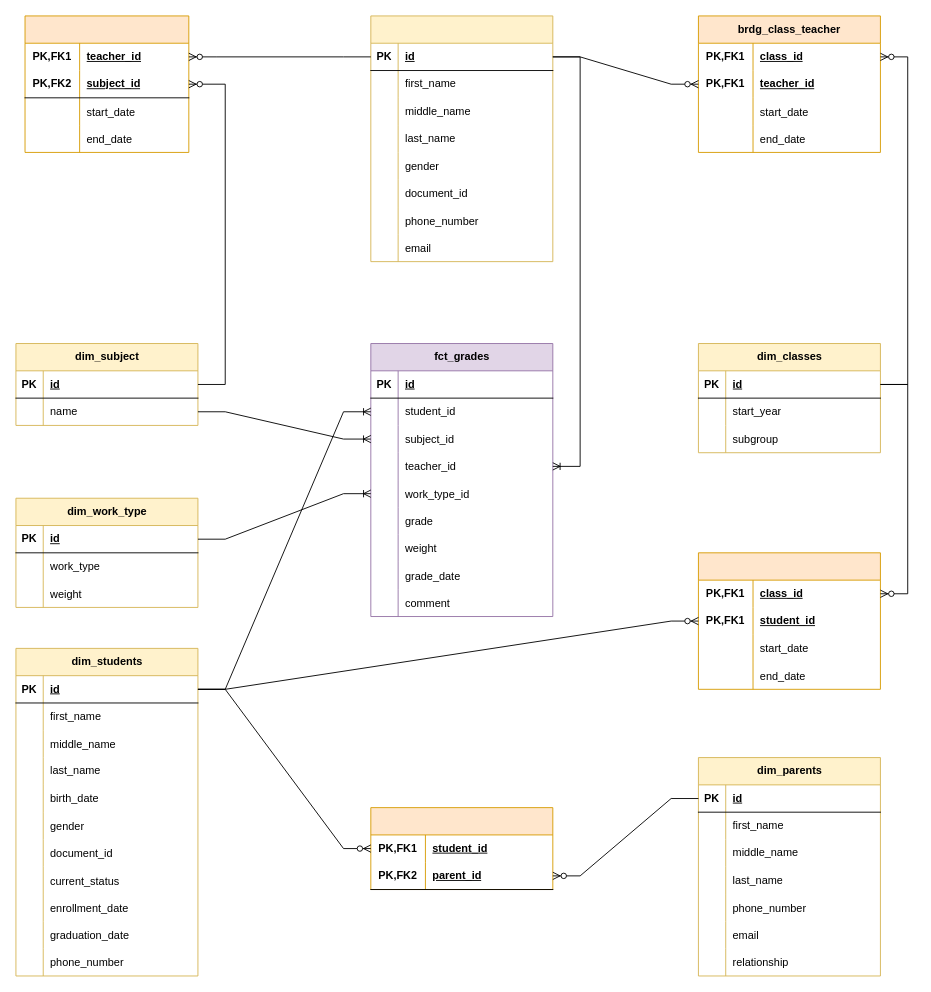
The diagram is 931 pixels wide and 992 high, and some of its shapes have lost their labels. The shapes that lost their labels are listed below. From the top down, each one's box as (x1, y1, x2, y2) in pixels, then its label:
(24, 15, 189, 152): brdg_teacher_subject
(370, 15, 553, 262): dim_teachers
(698, 552, 880, 689): brdg_class_student
(370, 807, 553, 890): brdg_student_parents
